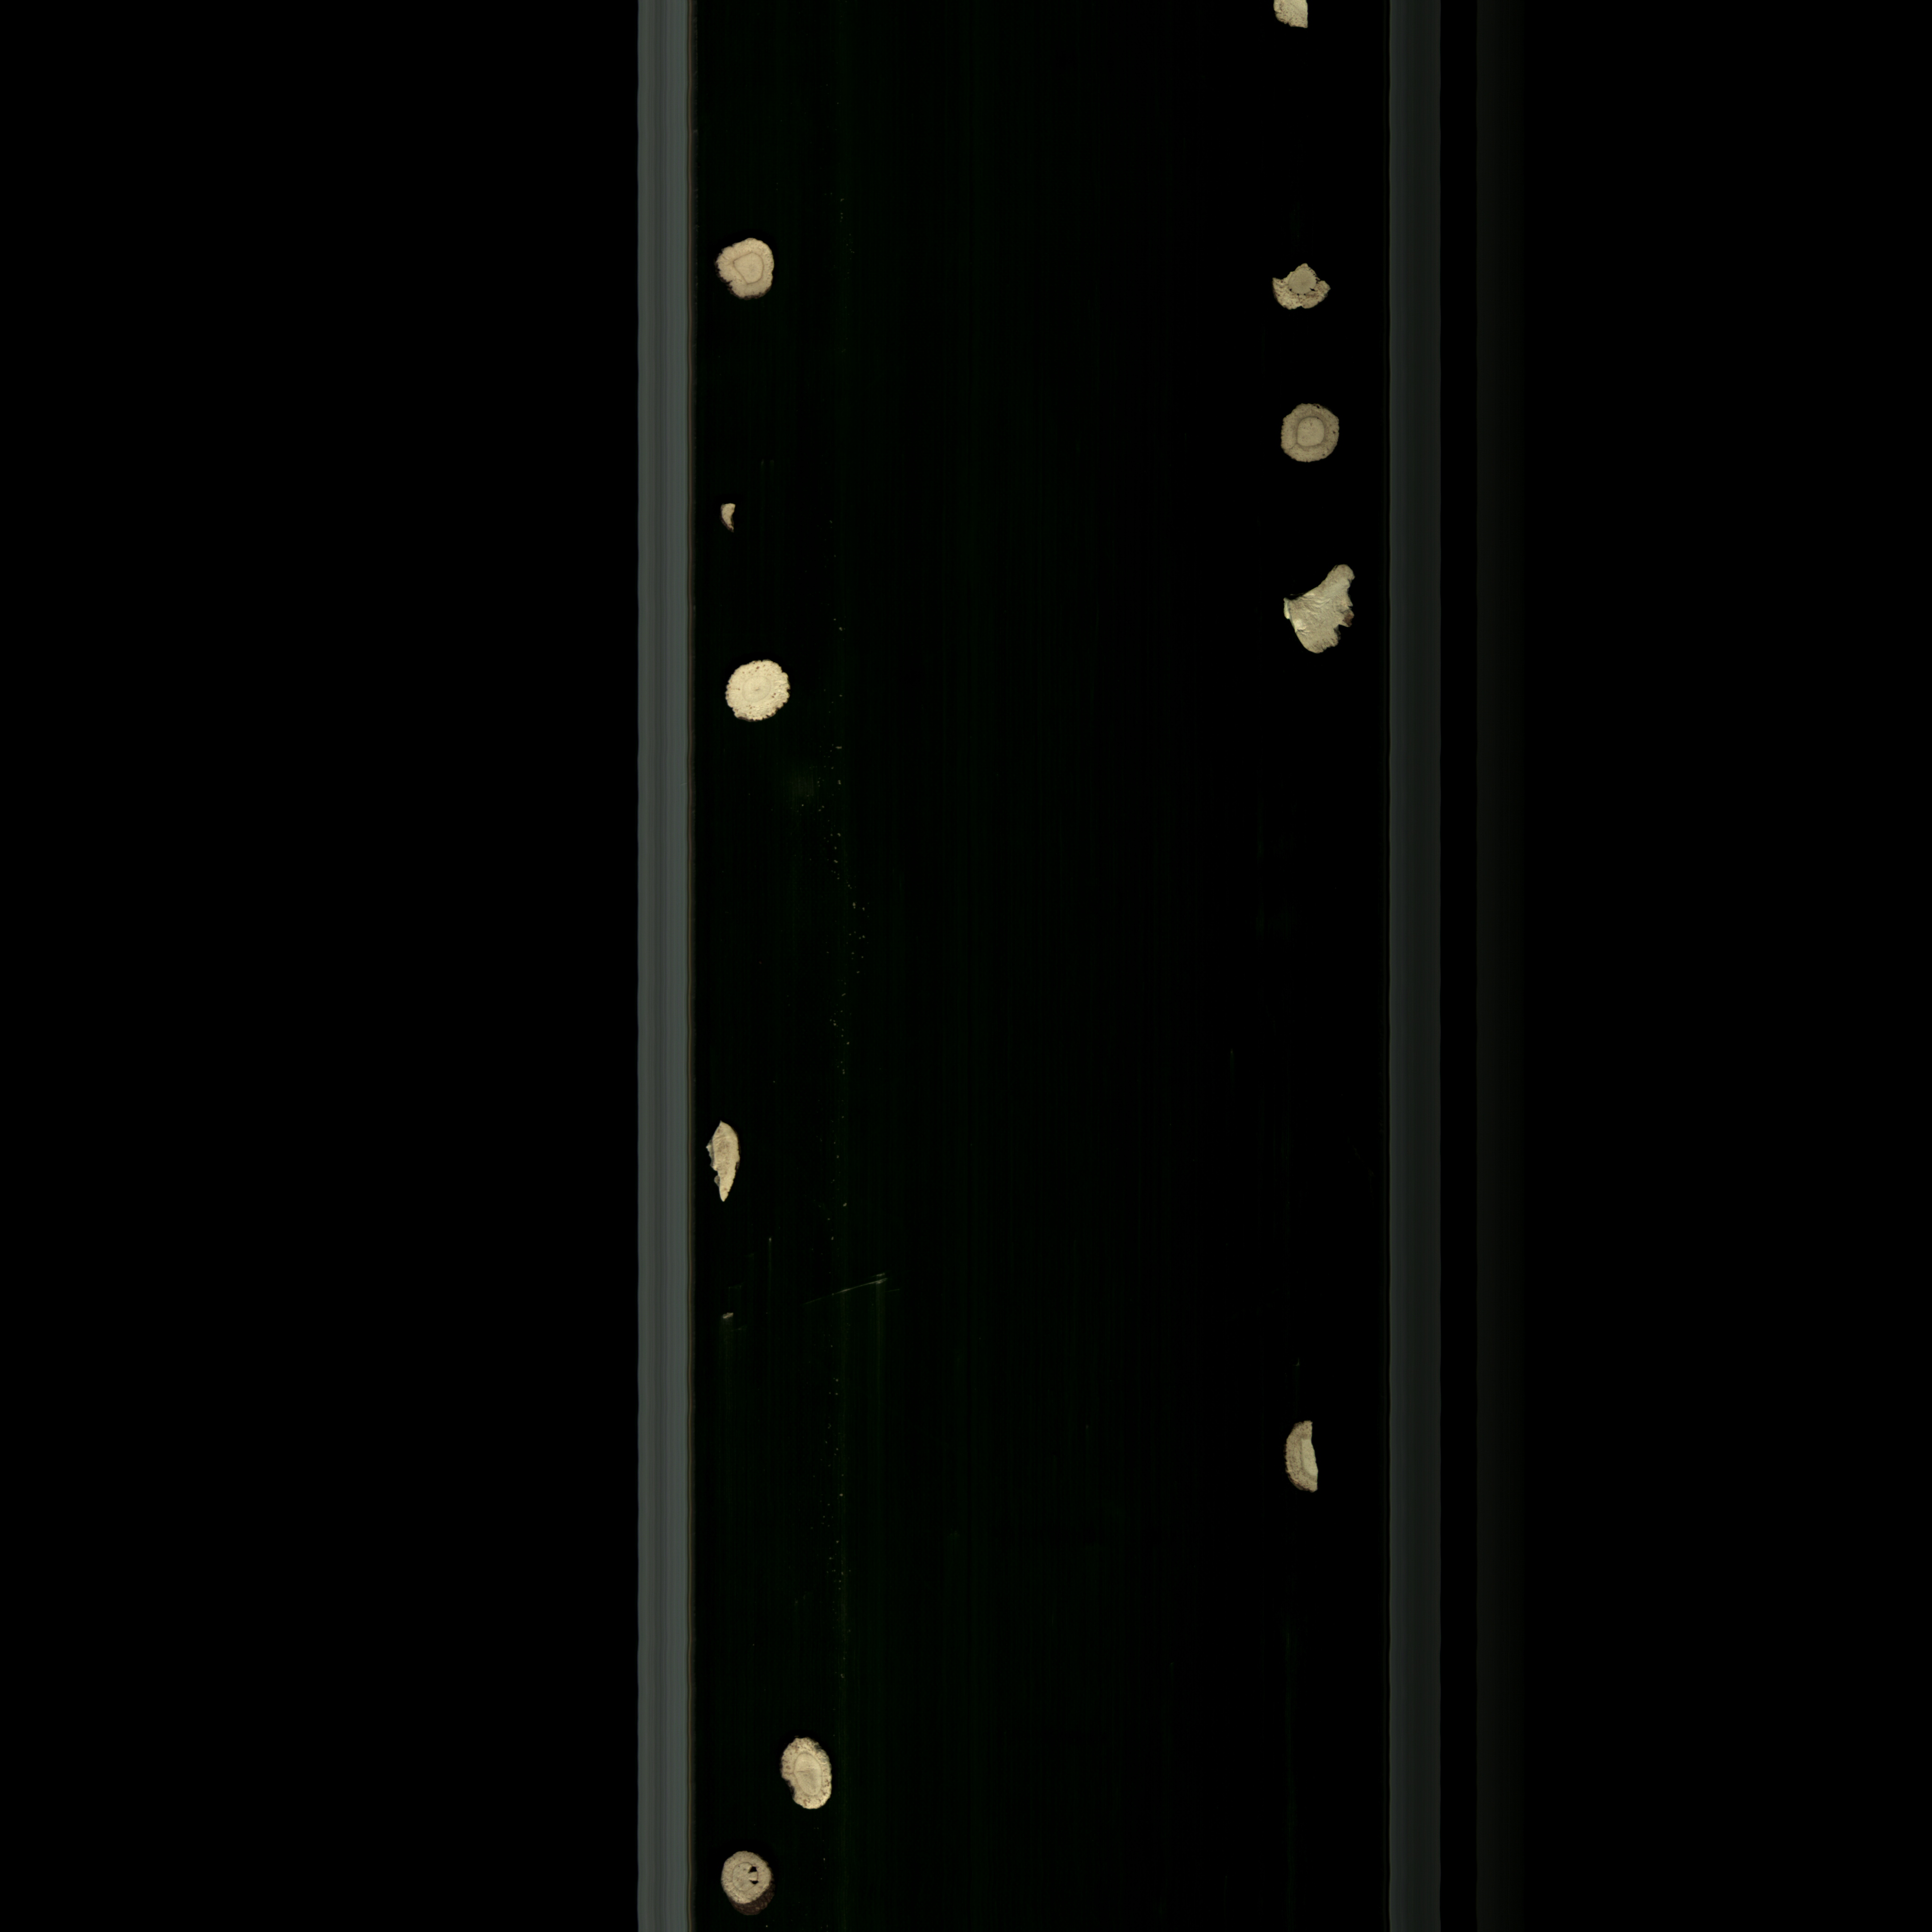debris: (763, 1721, 842, 1829), (1279, 1407, 1332, 1495), (695, 1115, 741, 1210)
distortion: (1270, 556, 1361, 667)
dreg: (711, 497, 743, 540)
hole: (701, 1842, 791, 1930)
moldy: (706, 230, 778, 315), (1253, 251, 1332, 320), (1276, 395, 1341, 472)
